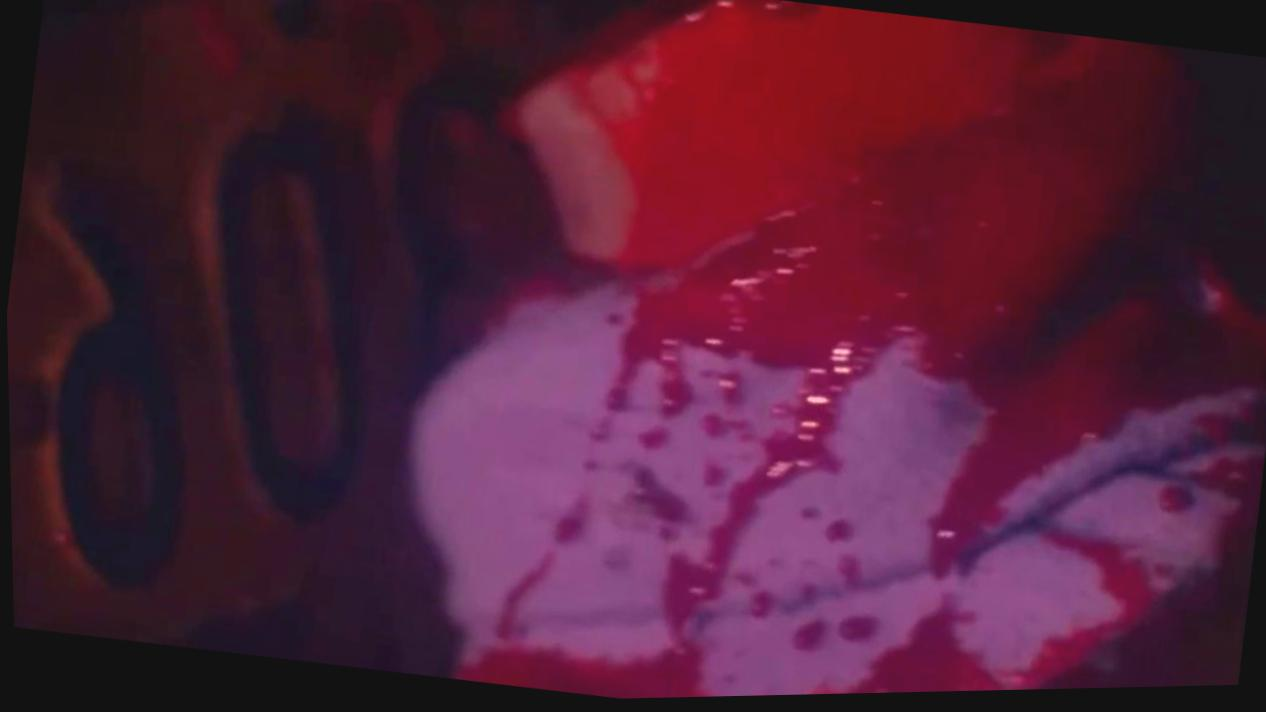Fire: (458, 5, 1266, 701)
